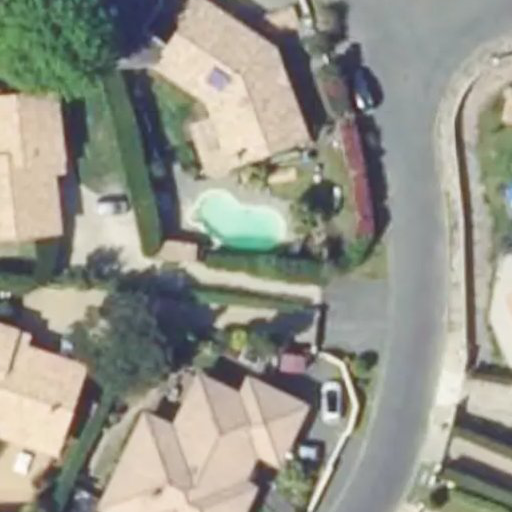pool: (193, 191, 287, 255)
